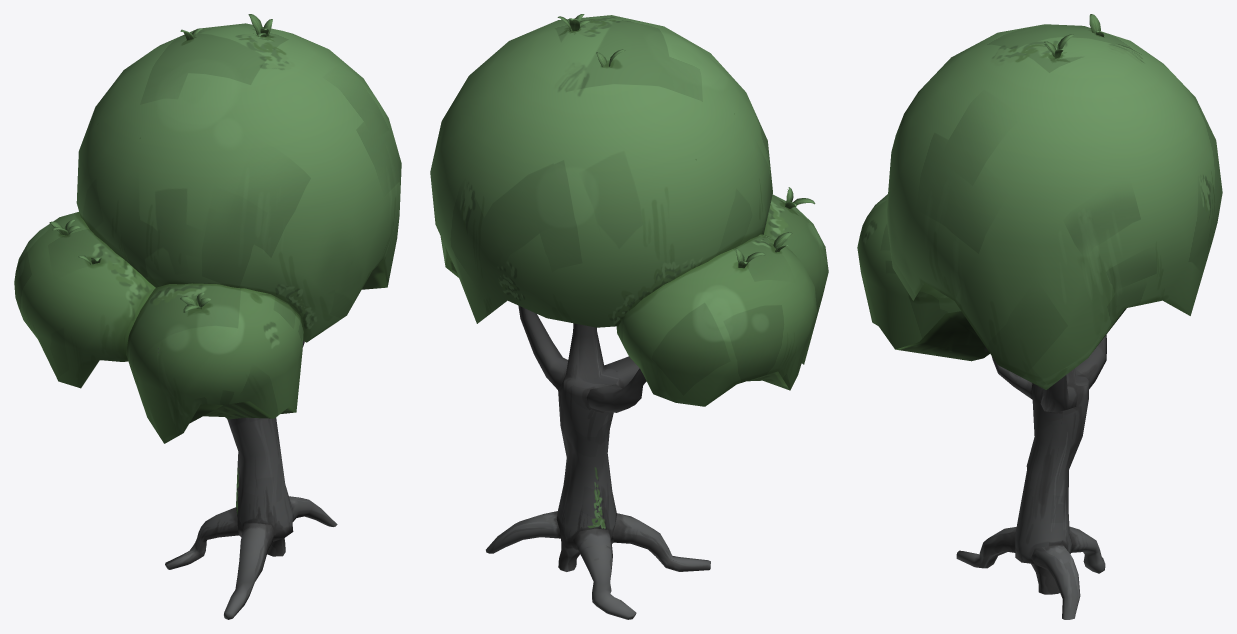
The model's file is Tree1.fbx.
3 views of the same model, side by side, from view 1: azimuth 30°, elevation 25°; view 2: azimuth 150°, elevation 25°; view 3: azimuth 270°, elevation 25° (orthographic). The views are drawn at different scales.
Parts seen in each view (by area): view 1: Tree1; view 2: Tree1; view 3: Tree1.
Boxes of the visible parts, x1,y1,x2,y2 form: Tree1: (14, 14, 401, 619); Tree1: (430, 14, 828, 619); Tree1: (857, 14, 1222, 619).
Size of the model in its own units: 11.89 by 18.16 by 10.68.
